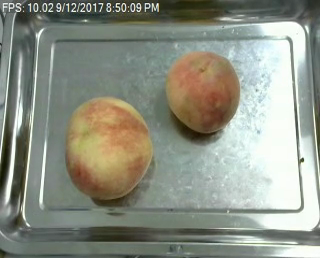Peach: (64, 95, 152, 200), (164, 49, 240, 133)
